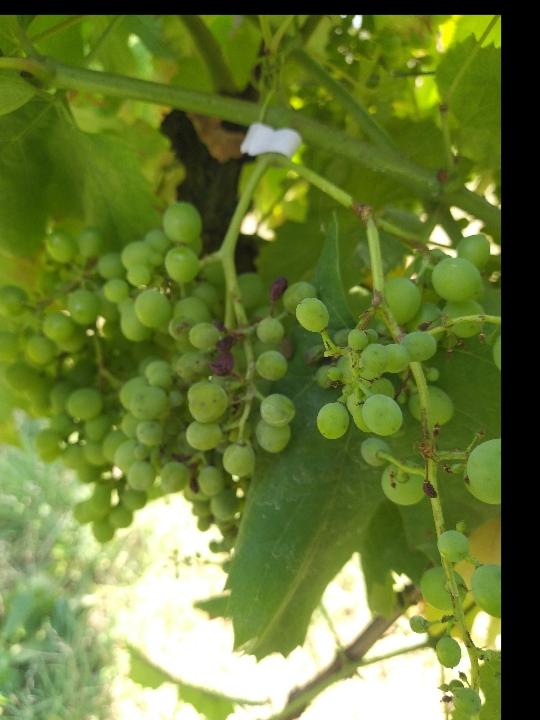grape: (104, 202, 318, 527)
